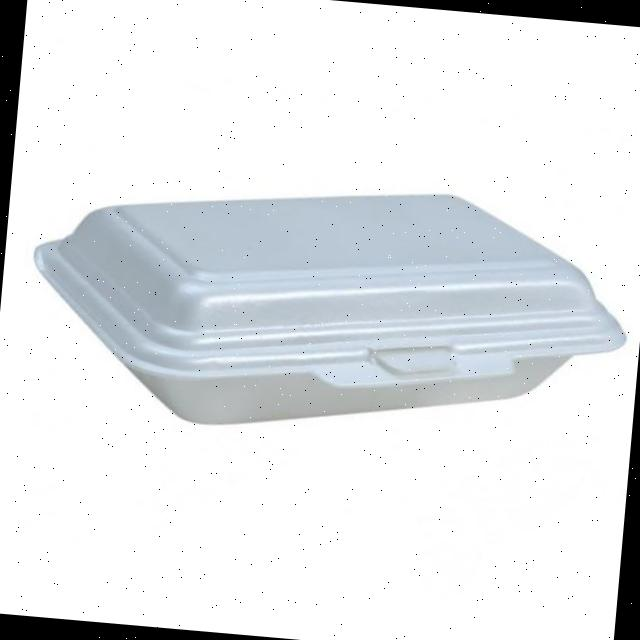styrofoam: (18, 154, 638, 460)
